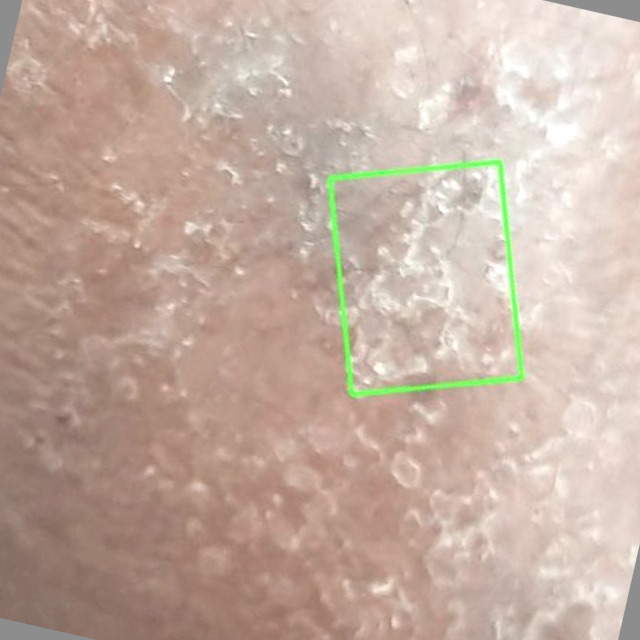Eczema: (329, 161, 521, 394)
